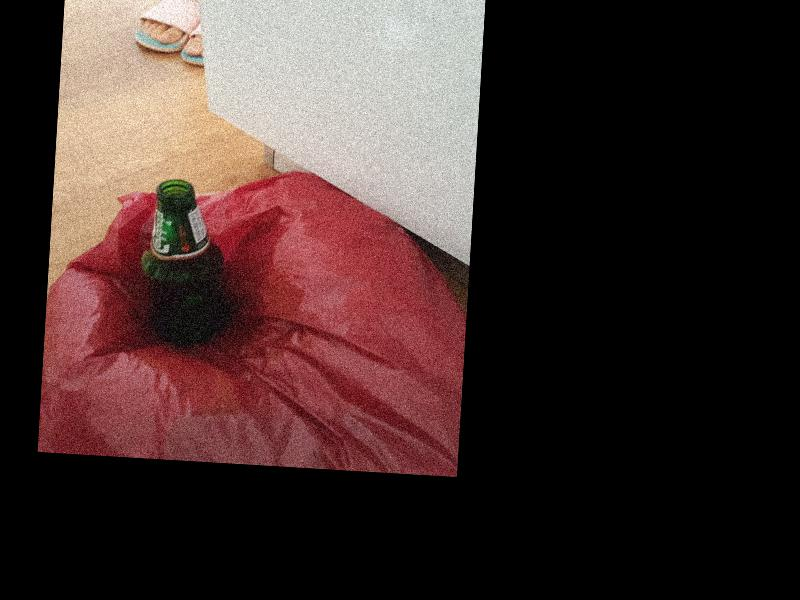Beer: (137, 178, 235, 348)
